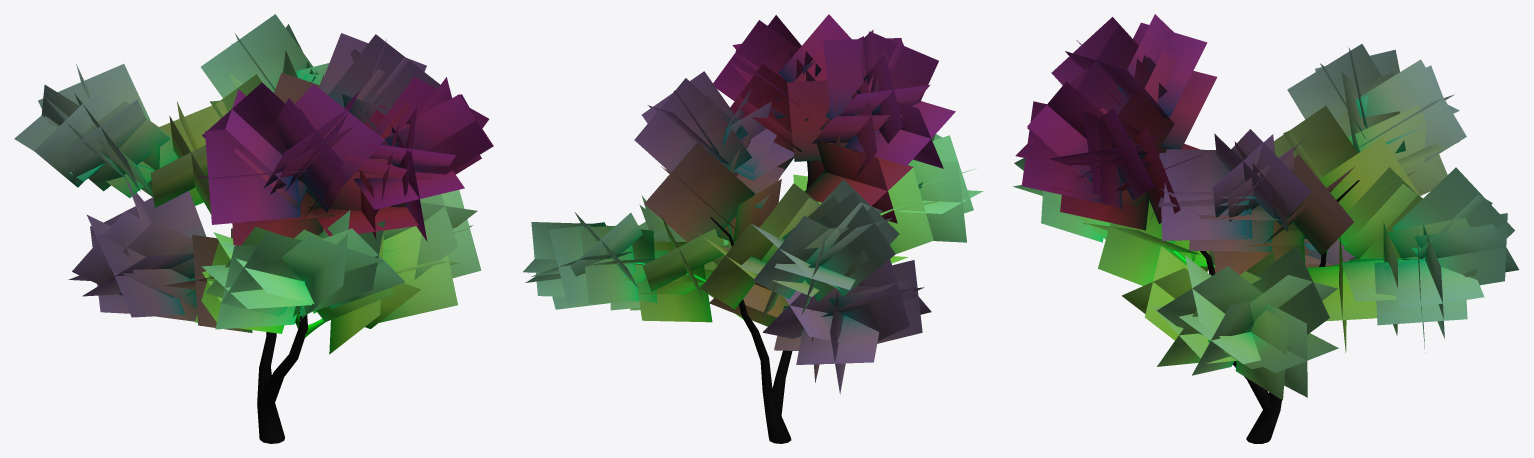
File: URP_P3_Tree_4_LOD_2.fbx
The picture shows the model from 3 angles, left to right: view 1: azimuth 30°, elevation 25°; view 2: azimuth 150°, elevation 25°; view 3: azimuth 270°, elevation 25°; orthographic projection. The views are drawn at different scales.
Parts seen in each view (by area): view 1: Tree_4_LOD_2; view 2: Tree_4_LOD_2; view 3: Tree_4_LOD_2.
Boxes of the visible parts, x1,y1,x2,y2 form: Tree_4_LOD_2: (14,14,493,443); Tree_4_LOD_2: (523,14,983,443); Tree_4_LOD_2: (1013,14,1519,443).
Size of the model in its own units: 522 by 549 by 632.
